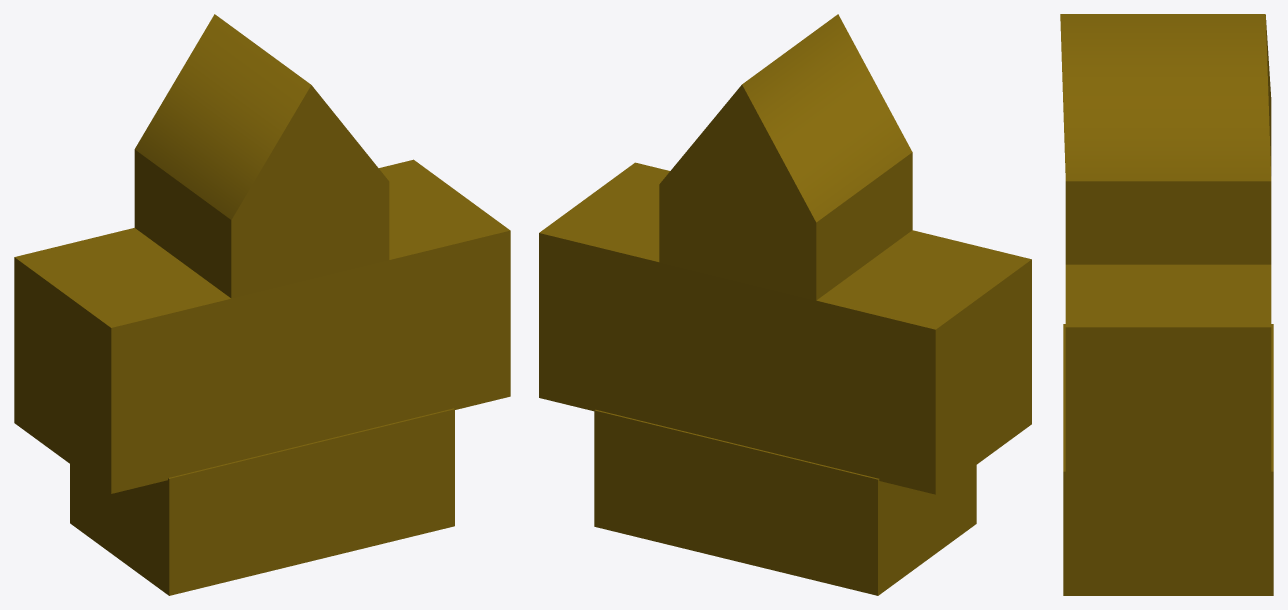
File: kingcrown.FBX
3 views of the same model, side by side, from view 1: azimuth 30°, elevation 25°; view 2: azimuth 150°, elevation 25°; view 3: azimuth 270°, elevation 25° (orthographic). The views are drawn at different scales.
Visible parts, largest first — view 1: Object; view 2: Object; view 3: Object.
Part boxes in pixels (x1=…): Object: x1=14, y1=14, x2=510, y2=595; Object: x1=539, y1=14, x2=1031, y2=595; Object: x1=1060, y1=14, x2=1273, y2=595.
Size of the model in its own units: 2.86 by 3.27 by 1.25.
